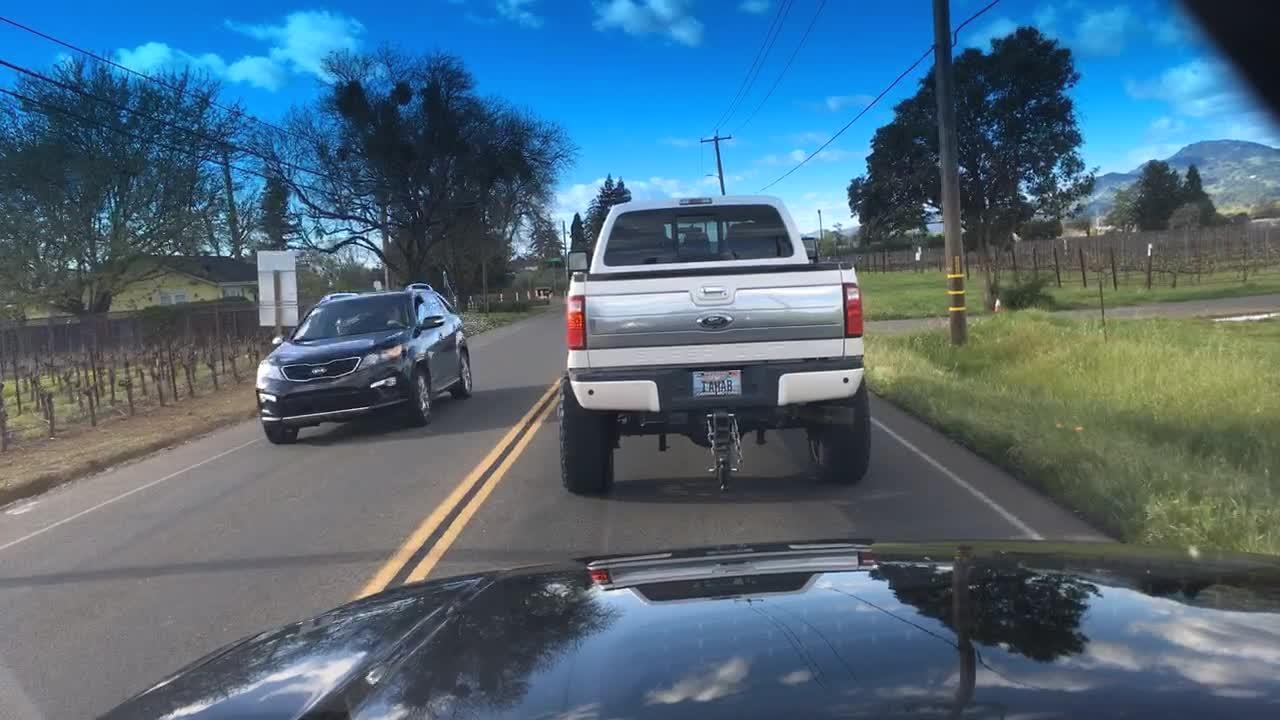ford: (689, 307, 738, 339)
